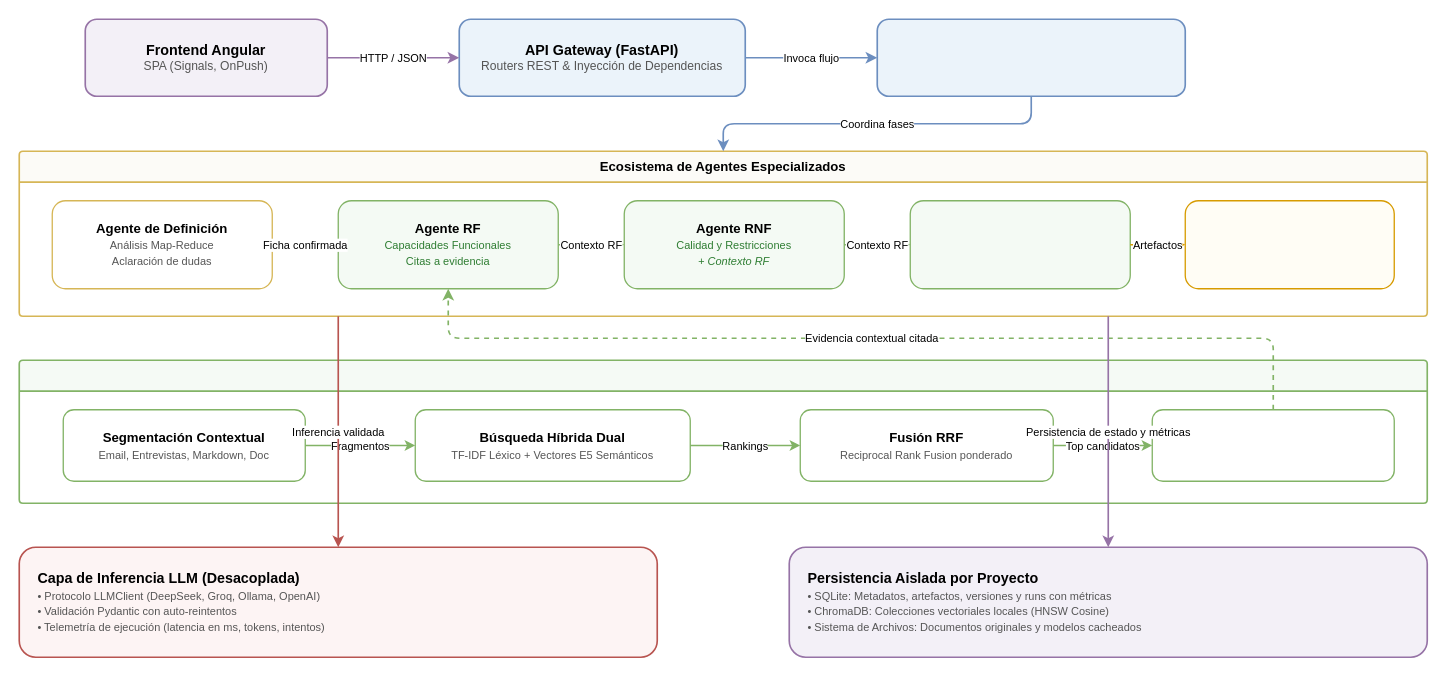
This 1448x678 diagram has some shape labels left out. The shapes that lost their labels are listed below. From the top down, each one's box as (x1, y1, x2, y2) in pixels, then its label:
(876, 18, 1186, 97): Orquestador de Casos de Uso ProjectApplicationService
(909, 200, 1130, 289): Agente HU Historias de Usuario Alineado con RF
(1184, 200, 1394, 289): Agente Validador Trazabilidad y Formato Duplicados cross-type
(18, 359, 1428, 504): Subsistema de Recuperación Híbrida (RAG)
(1151, 409, 1394, 481): Cross-Encoder Reranker Reordenamiento de precisión (opcional)
